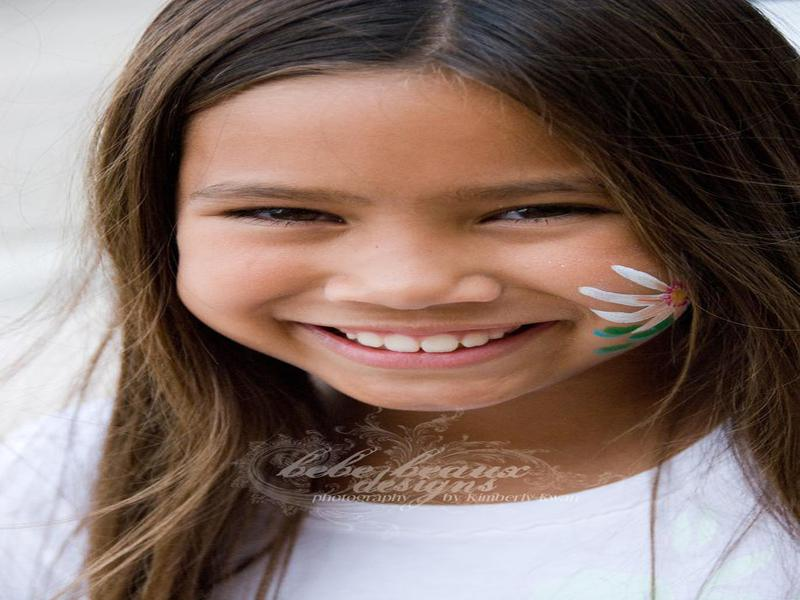person: (68, 1, 798, 600)
